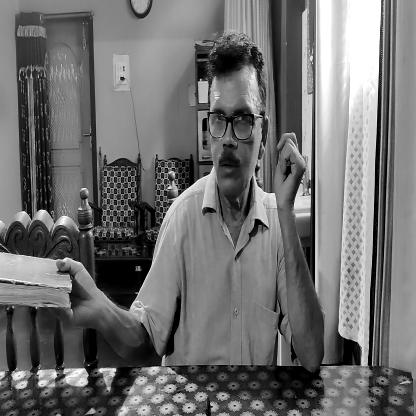Normal: (196, 32, 268, 205)
